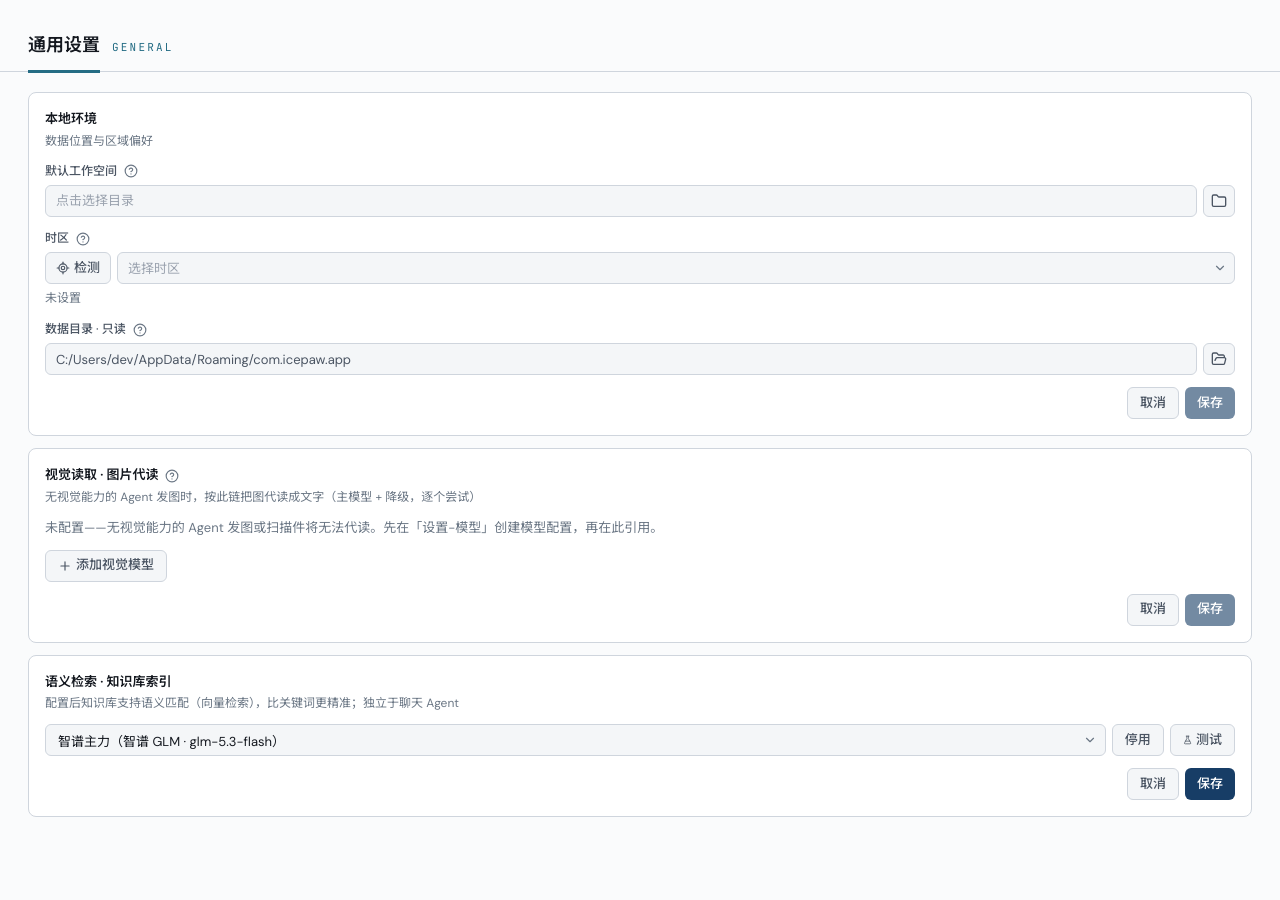
Test case: GeneralSettings 通用设置页（三卡显式保存） › 已启用换引用：点「保存」弹 overlay → test → save → rebuild 三步流
Check: the number of elements with class "settings-card" is 3, box 28,92 -> 1252,436; 28,448 -> 1252,643; 28,655 -> 1252,818
Click the 3rd button "保存" at (1210,784), box 1185,768 -> 1235,800
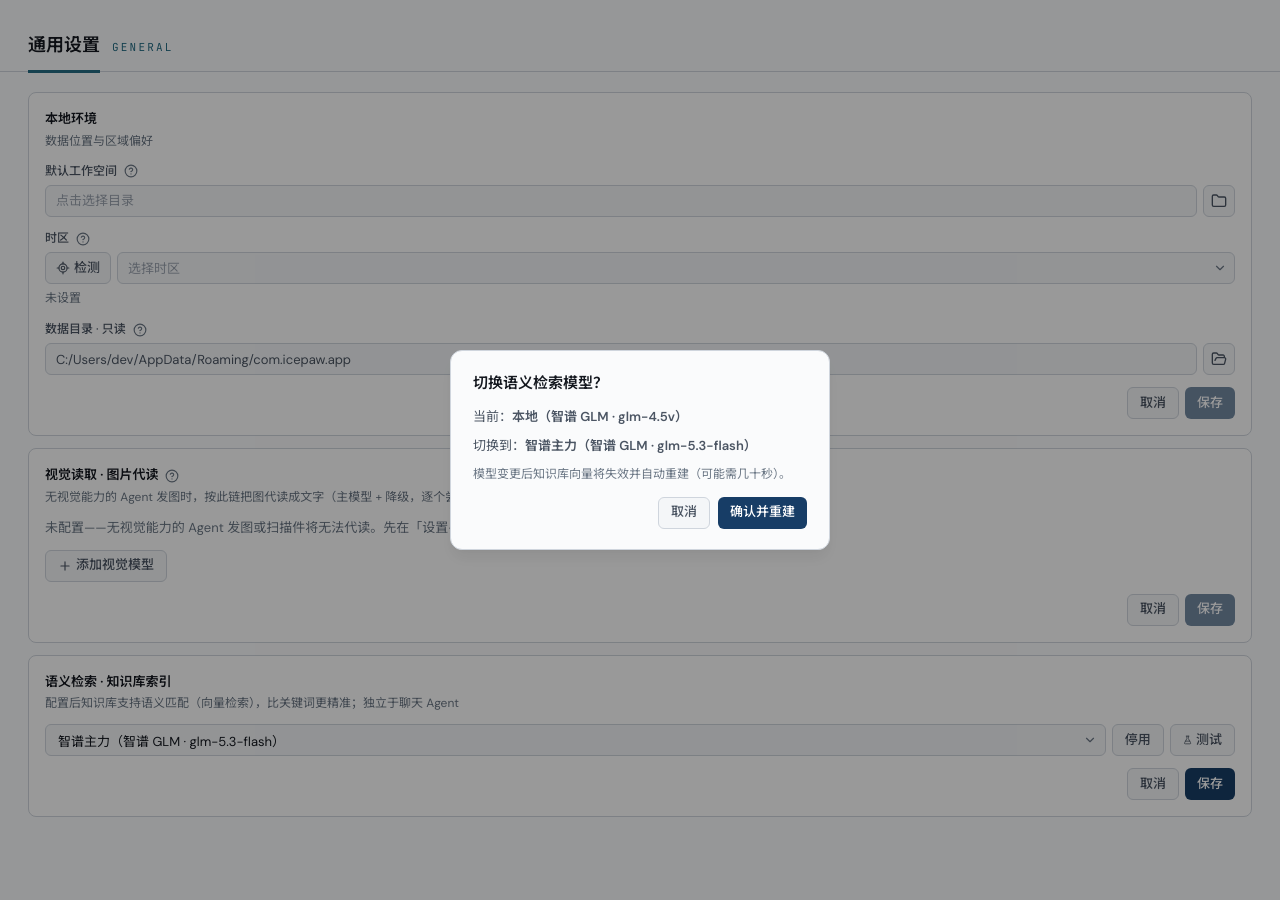
Check: the element that starts with "切换语义检索模型？" is shown
Click the button "确认并重建" at (762,513), box 718,497 -> 807,529
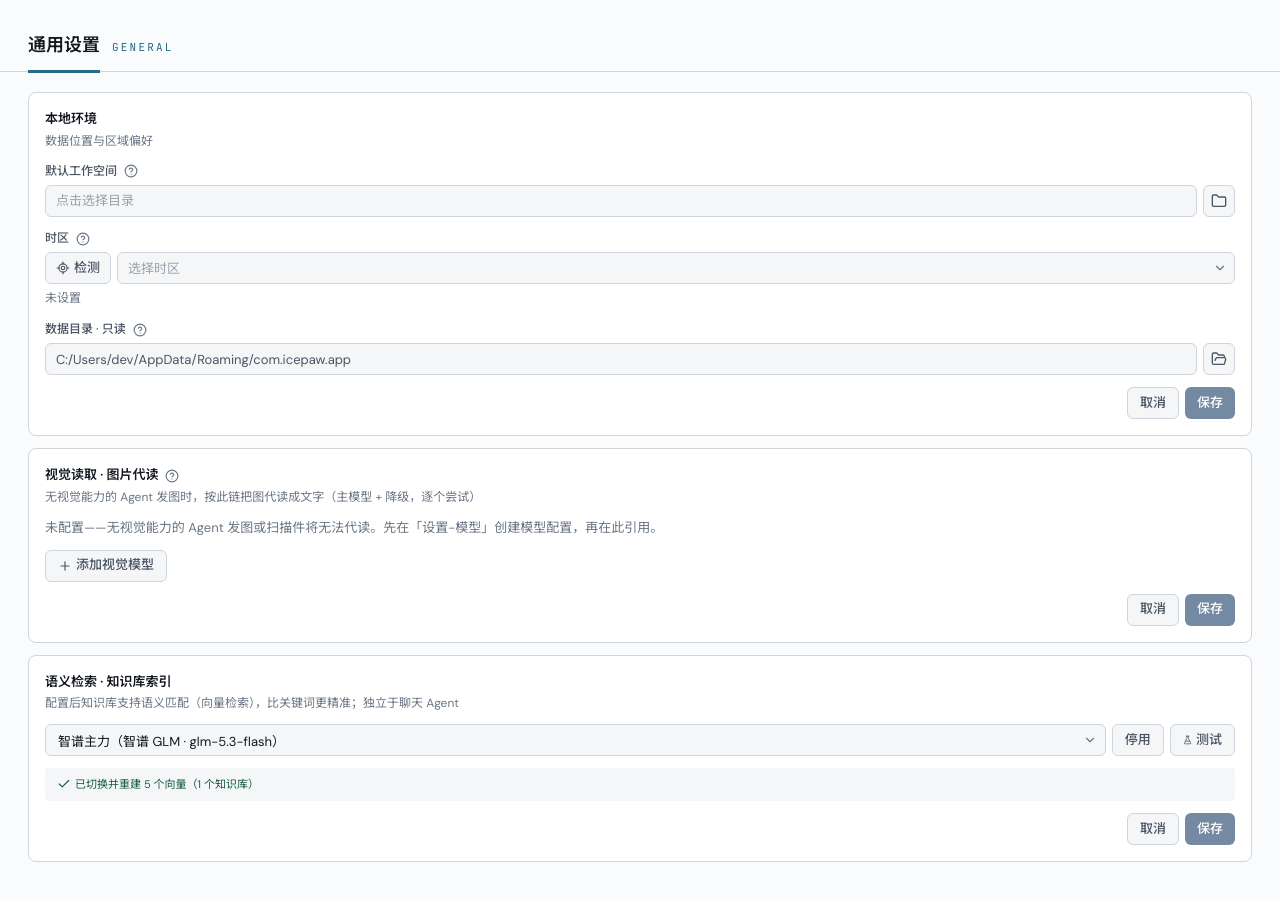
Check: the number of elements with class "settings-card" is 3, box 28,92 -> 1252,436; 28,448 -> 1252,643; 28,655 -> 1252,862
Check: the element with class "settings-card" shows "已切换并重建 5 个向量", box 75,778 -> 259,792
